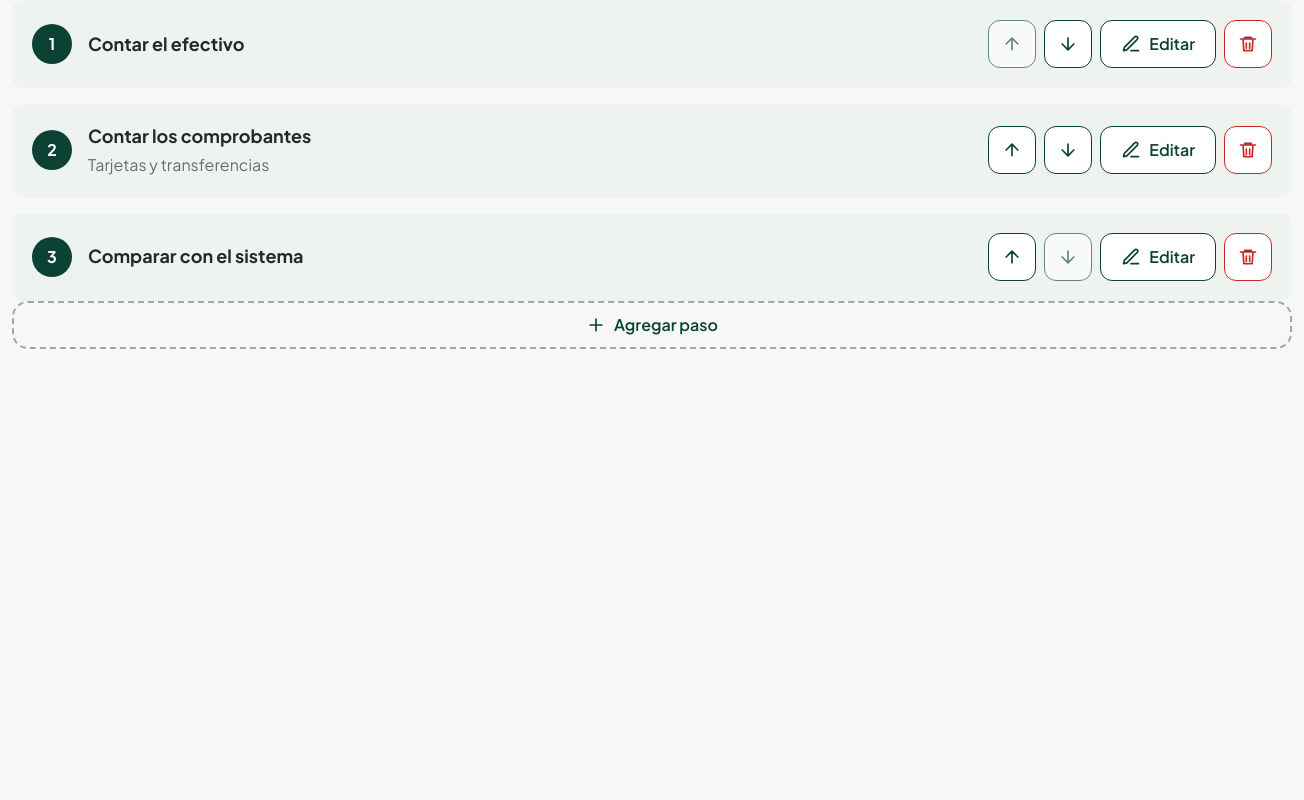
Test: editing a step › opens the form with the step, in the place of the step
Click the button "Editar" in the row of "Contar los comprobantes". click: (1158, 150)
box: [1100,126,1216,174]
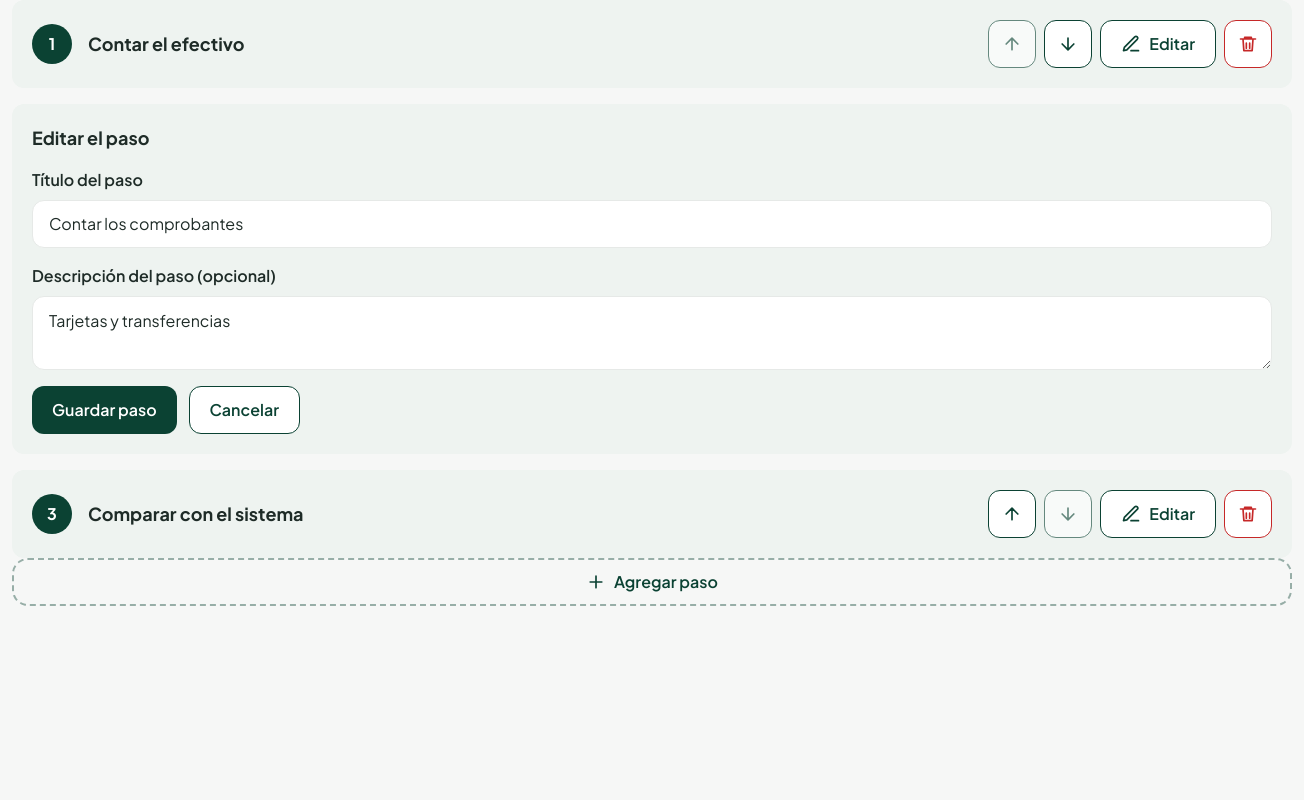
Check: the field labelled "Título del paso" holds "Contar los comprobantes", box [32,200,1272,248]
Check: the text box labelled "Descripción del paso (opcional)" holds "Tarjetas y transferencias", box [32,296,1272,370]
